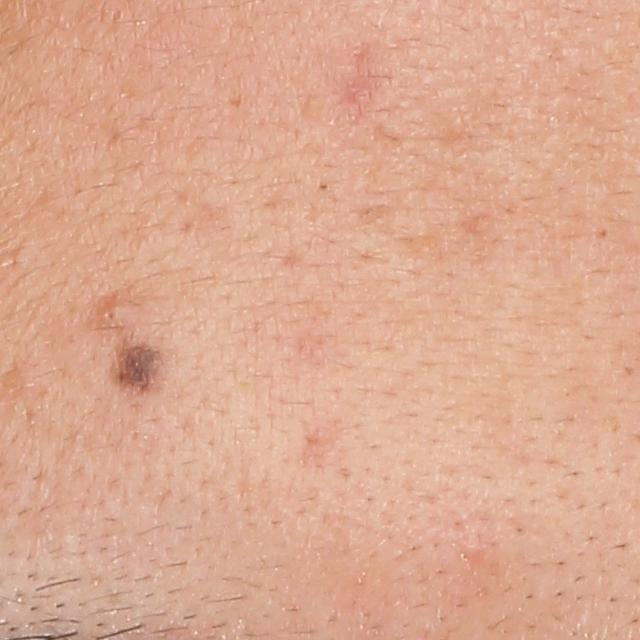comedo: (314, 176, 332, 195)
nevus: (105, 328, 173, 390)
